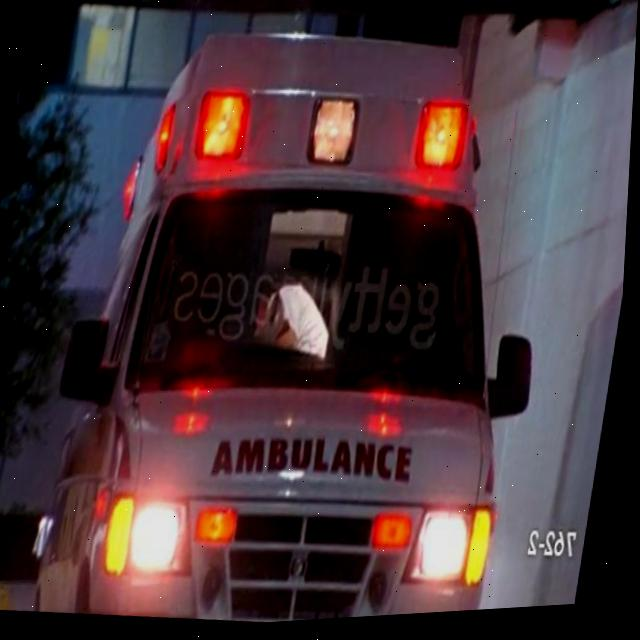emergency: (34, 0, 577, 637)
